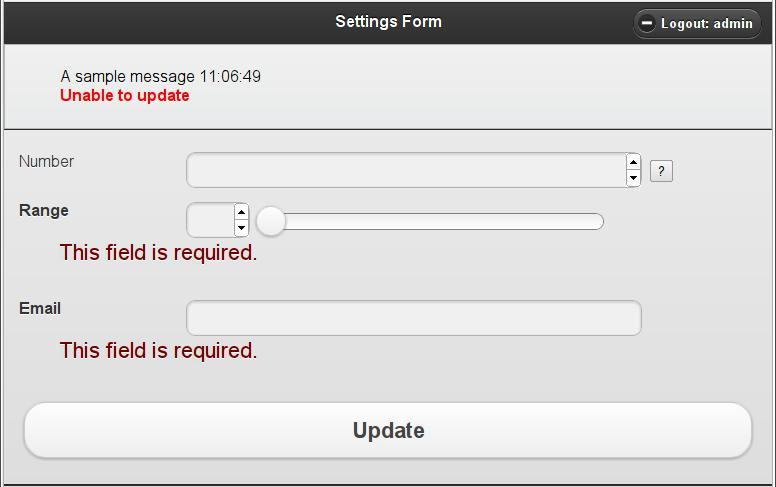button: (25, 403, 753, 459)
input: (186, 300, 643, 339), (189, 154, 628, 186), (189, 205, 237, 238)
label: (224, 165, 305, 166)
slider: (258, 206, 611, 239)
